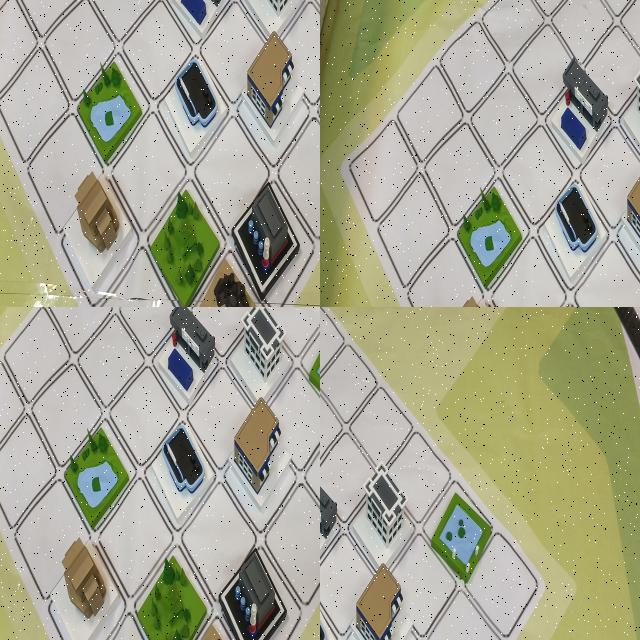bus_stop: (117, 0, 184, 79), (320, 460, 354, 576), (511, 286, 566, 307)
factory: (219, 466, 286, 584), (152, 307, 213, 390), (26, 0, 94, 45), (439, 0, 471, 29)
fish_pool: (431, 483, 498, 595), (202, 154, 261, 266), (286, 307, 320, 382), (412, 0, 445, 39)
forest: (146, 478, 216, 586), (143, 0, 198, 44)
gogo_shop: (132, 142, 195, 252), (149, 376, 211, 476), (547, 51, 598, 130), (320, 576, 354, 640)
research_build: (252, 90, 320, 200), (348, 458, 413, 573), (219, 307, 276, 372), (439, 25, 480, 89)
restaurant: (222, 364, 290, 471), (34, 70, 97, 180), (347, 554, 419, 640), (543, 145, 599, 242)
silicate_rock: (183, 535, 247, 640), (194, 0, 257, 41)
volunteer_center: (64, 472, 130, 576), (185, 0, 250, 91), (468, 0, 502, 37)
wet_land: (74, 384, 139, 478), (493, 146, 539, 228), (320, 581, 358, 640), (178, 0, 234, 39)
